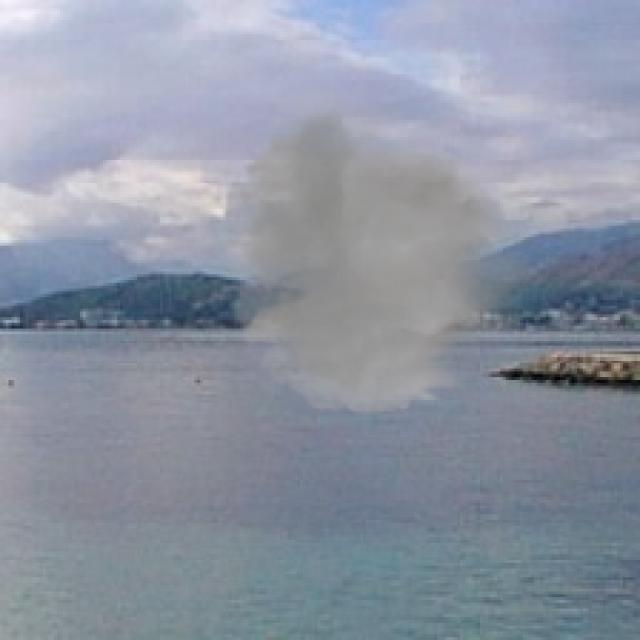smoke: (200, 77, 549, 423)
